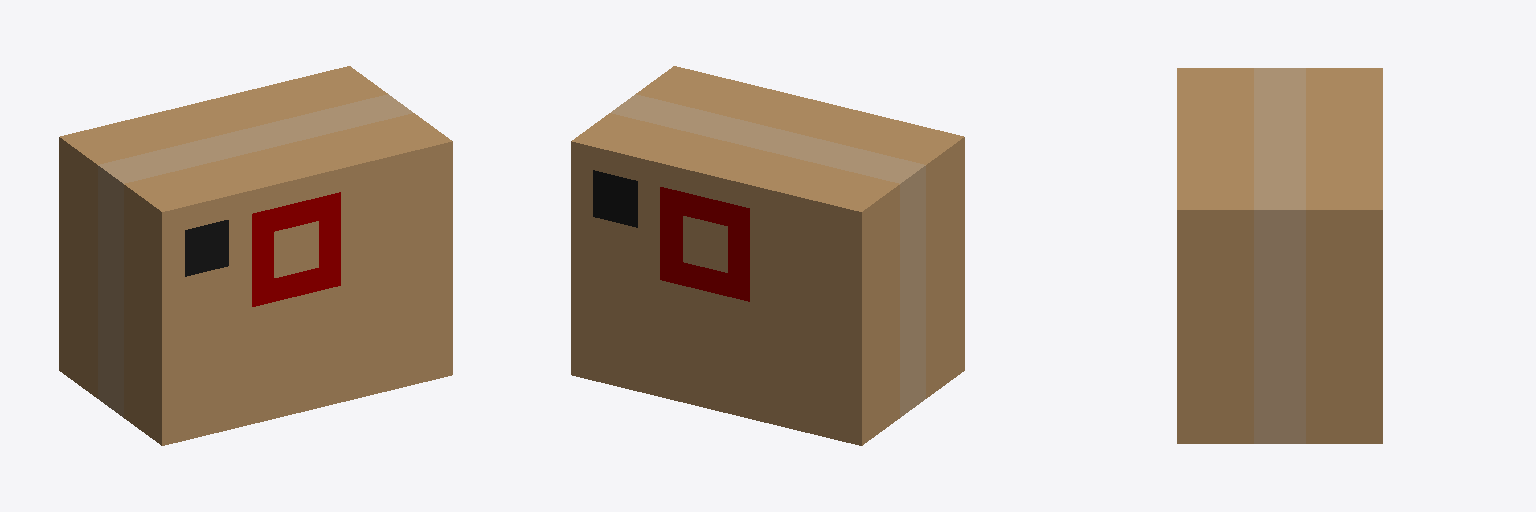
3 views of the same model, side by side, from view 1: azimuth 30°, elevation 25°; view 2: azimuth 150°, elevation 25°; view 3: azimuth 270°, elevation 25° (orthographic).
Visible parts, largest first — view 1: object 1; view 2: object 1; view 3: object 1.
Boxes of the visible parts, x1,y1,x2,y2 form: object 1: [59, 66, 452, 445]; object 1: [571, 66, 964, 445]; object 1: [1177, 68, 1382, 443].
Size of the model in its own units: 1.3 by 1 by 0.8.
Materials: 1 (1 with a texture image).